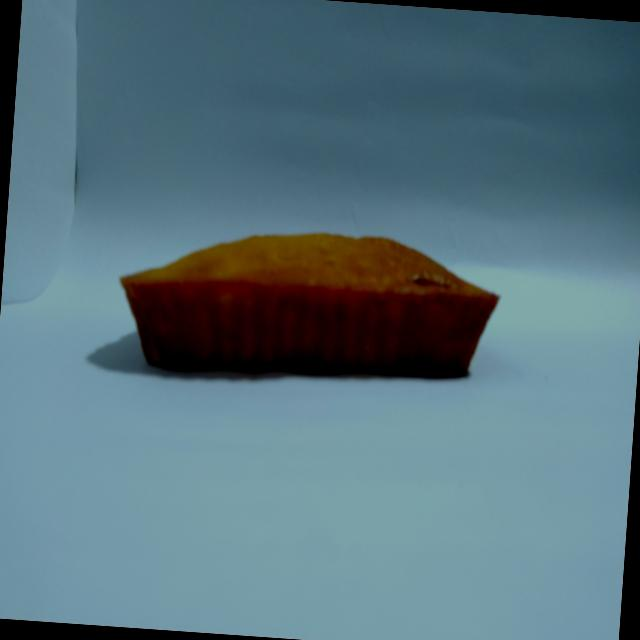Sopa: (98, 210, 522, 408)
